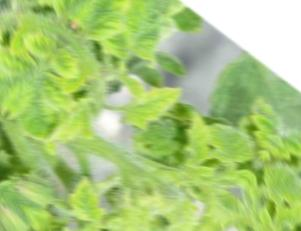Tomato leaf yellow virus: (4, 71, 89, 155), (109, 65, 189, 152), (221, 97, 291, 172), (68, 0, 149, 59), (166, 111, 227, 170), (57, 172, 117, 228)
